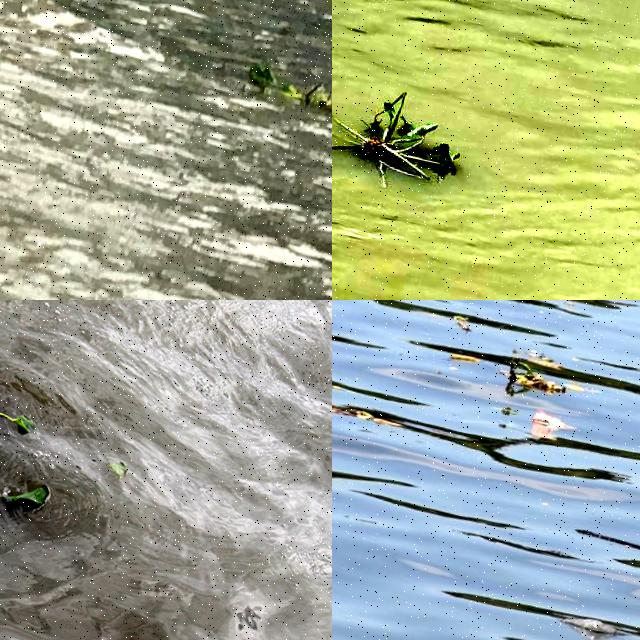water-hyacinth: (333, 66, 483, 206), (1, 363, 77, 524), (236, 53, 333, 125)
